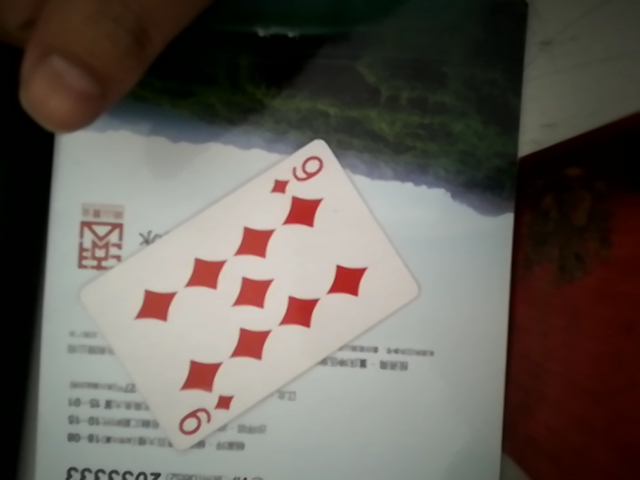fk 9: (88, 139, 415, 442)
